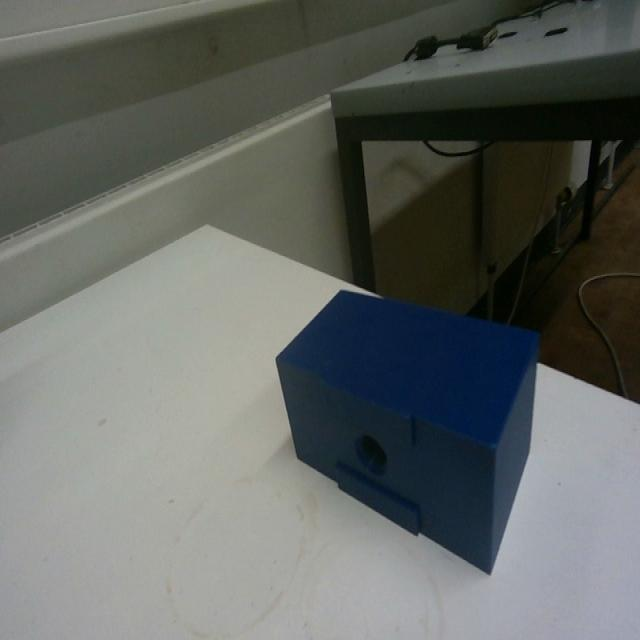Blue Cuboid: (273, 282, 542, 574)
